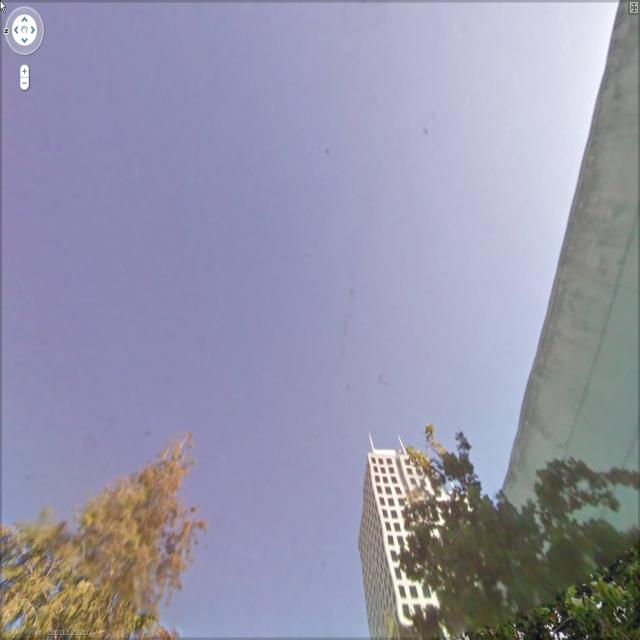b_2: (498, 15, 640, 623), (342, 428, 634, 640)
